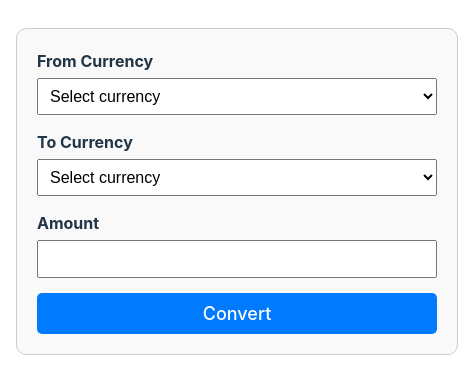
Test: displays validation errors for invalid amount
// Fill in valid currencies but invalid amount
Select "USD" in the dropdown labelled "From Currency" at coordinates (237, 96), box [37, 78, 437, 114]
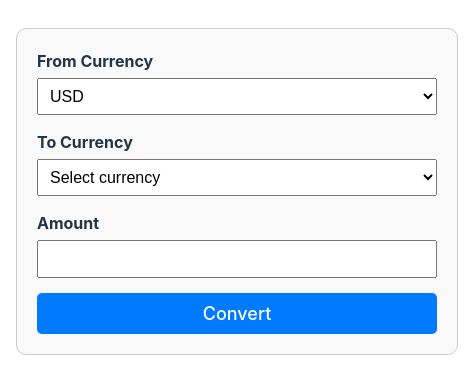
Select "EUR" in the dropdown labelled "To Currency" at coordinates (237, 177), box [37, 158, 437, 196]
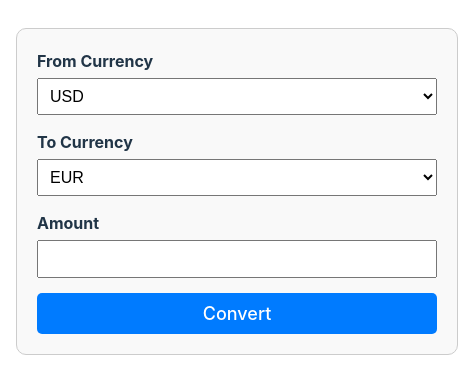
Type "-100" into the number field labelled "Amount" at coordinates (237, 258), box [37, 240, 437, 278]
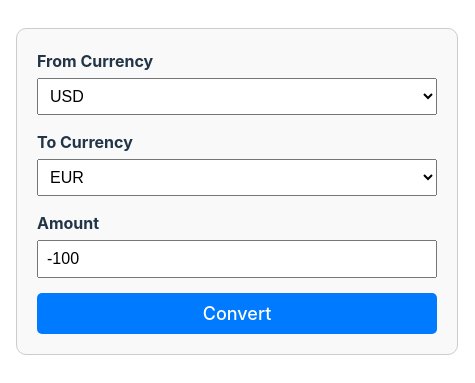
Click the button "Convert" at coordinates (237, 313), box [37, 292, 437, 334]
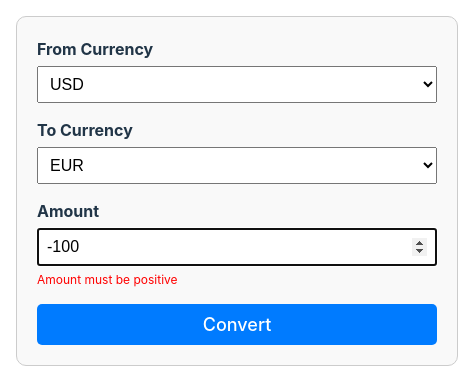
Now the text "Amount must be positive" is shown, box [37, 272, 178, 287]
